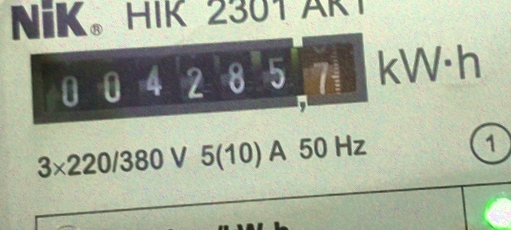0: (99, 66, 123, 104), (57, 71, 80, 107)
2: (183, 63, 204, 100)
4: (143, 61, 162, 97)
5: (264, 53, 287, 89)
7: (309, 58, 330, 95)
8: (223, 58, 246, 95)
screen: (13, 20, 382, 137)
